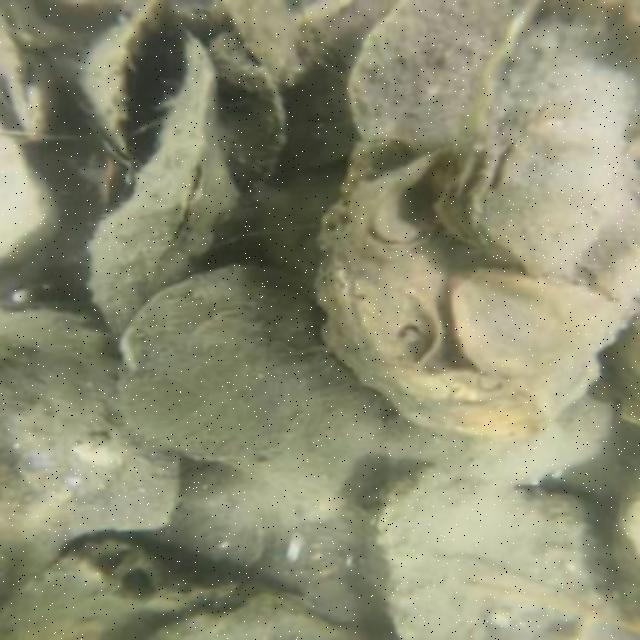Oyster-Closed: (126, 261, 382, 515), (432, 1, 640, 276), (0, 306, 186, 608), (78, 28, 242, 344), (361, 470, 640, 640), (141, 466, 370, 624), (446, 267, 638, 427), (354, 1, 526, 154), (138, 595, 369, 640), (0, 129, 63, 266)
